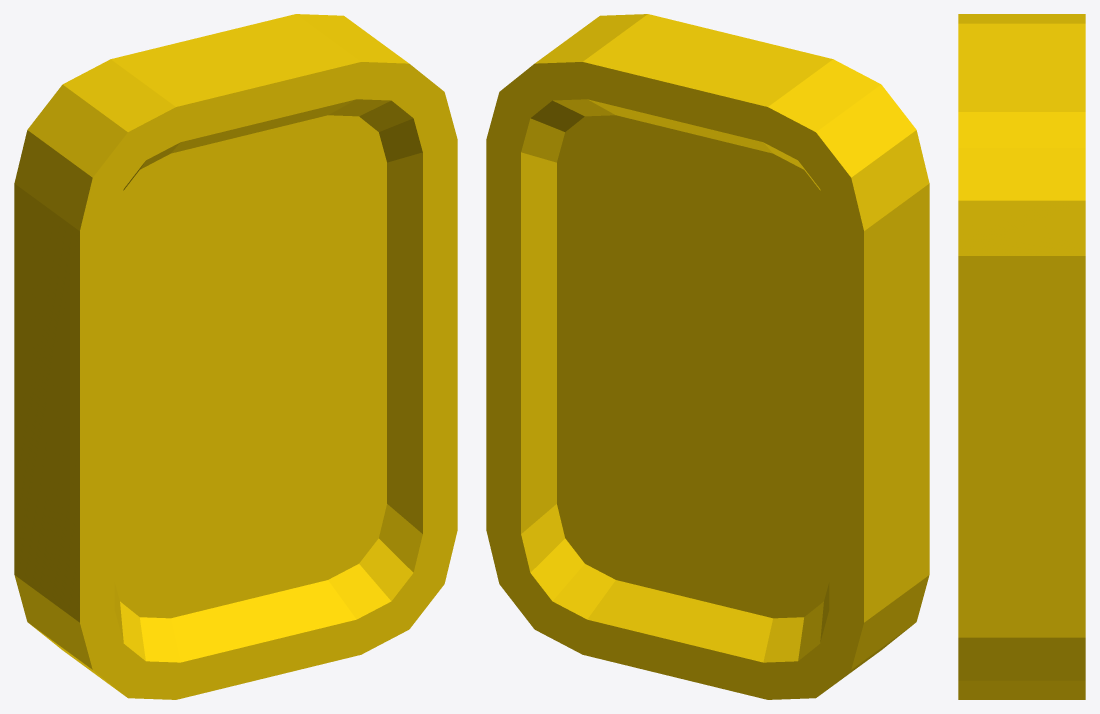
File: Coin.fbx
3 views of the same model, side by side, from view 1: azimuth 30°, elevation 25°; view 2: azimuth 150°, elevation 25°; view 3: azimuth 270°, elevation 25° (orthographic). The views are drawn at different scales.
Visible parts, largest first — view 1: Cube; view 2: Cube; view 3: Cube.
Part boxes in pixels (<box>): Cube: <box>14,14,457,699</box>; Cube: <box>486,14,929,699</box>; Cube: <box>958,14,1085,699</box>.
Size of the model in its own units: 3.55 by 5.33 by 1.07.
